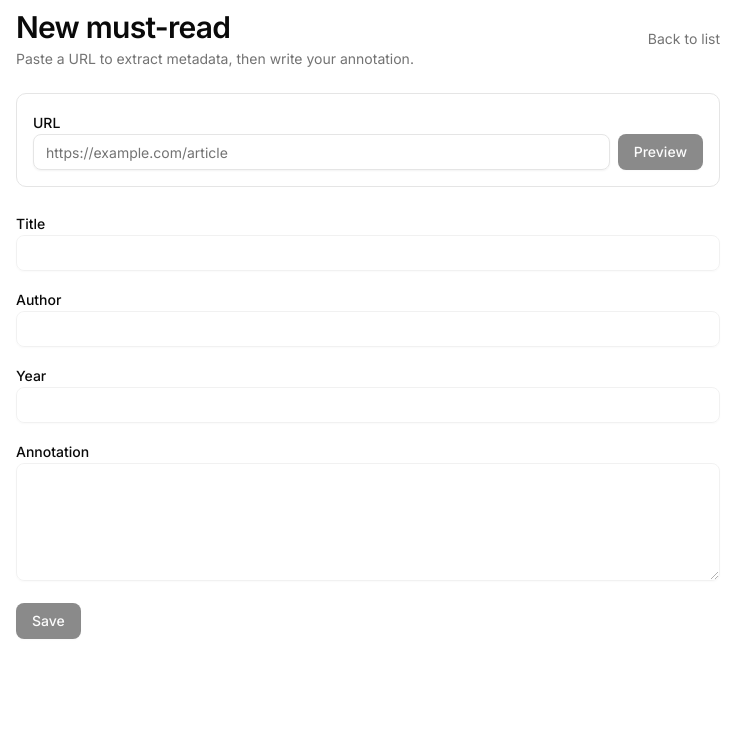
Scenario: AdminMustReadEditPage — create flow (REQ-029) › renders 'Extraction failed' banner on extraction_failed and leaves fields empty (REQ-030)
The width and height of the screenshot is (737, 744).
Step 1. Type "https://example.com" into the field labelled "URL" → (321, 152), box top-left (33, 134), bottom-right (610, 170)
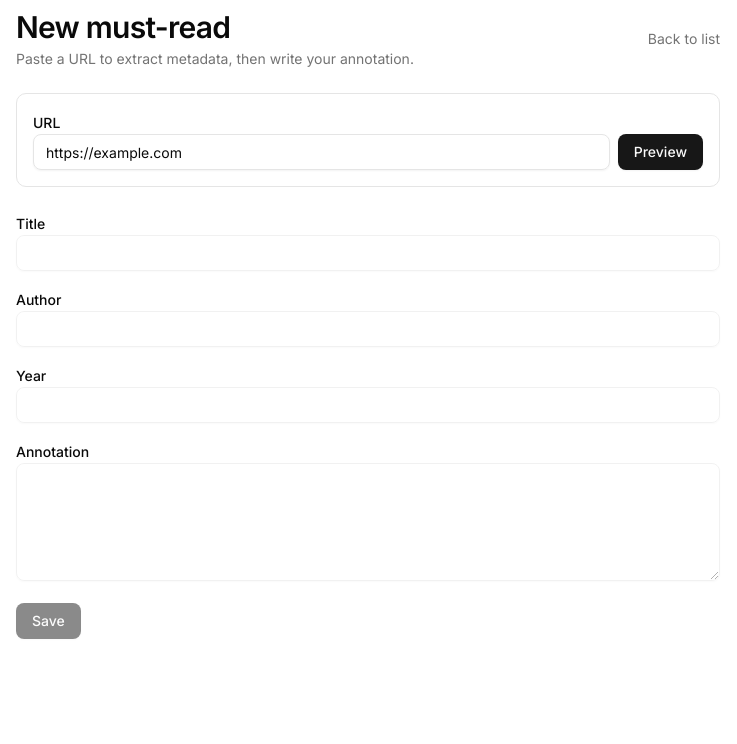
Step 2. Click the button "Preview" → (660, 152), box top-left (618, 134), bottom-right (703, 170)
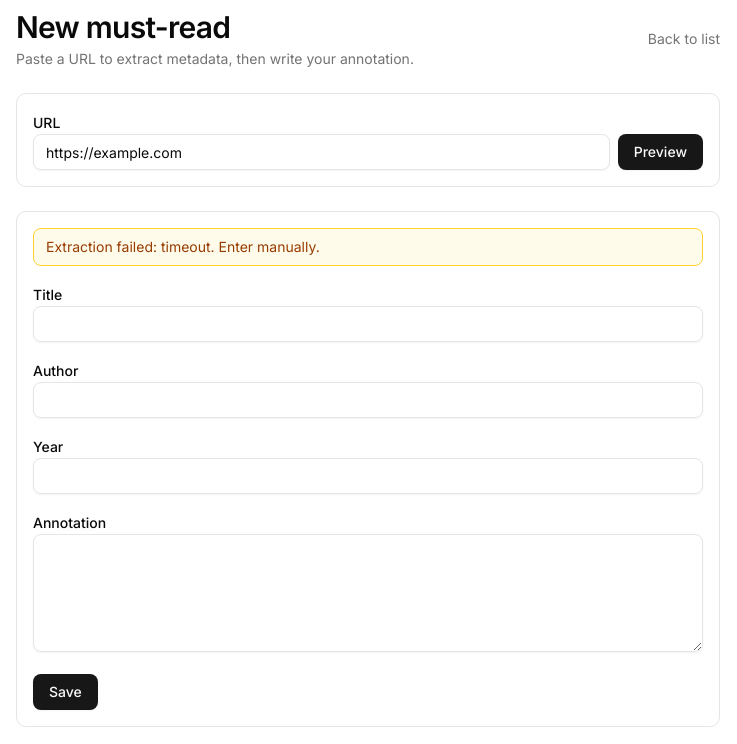
Expected: the field labelled "Title" is empty, top-left (33, 306), bottom-right (703, 342)
Expected: the text "Extraction failed: timeout. Enter manually." is shown, top-left (33, 228), bottom-right (703, 266)
